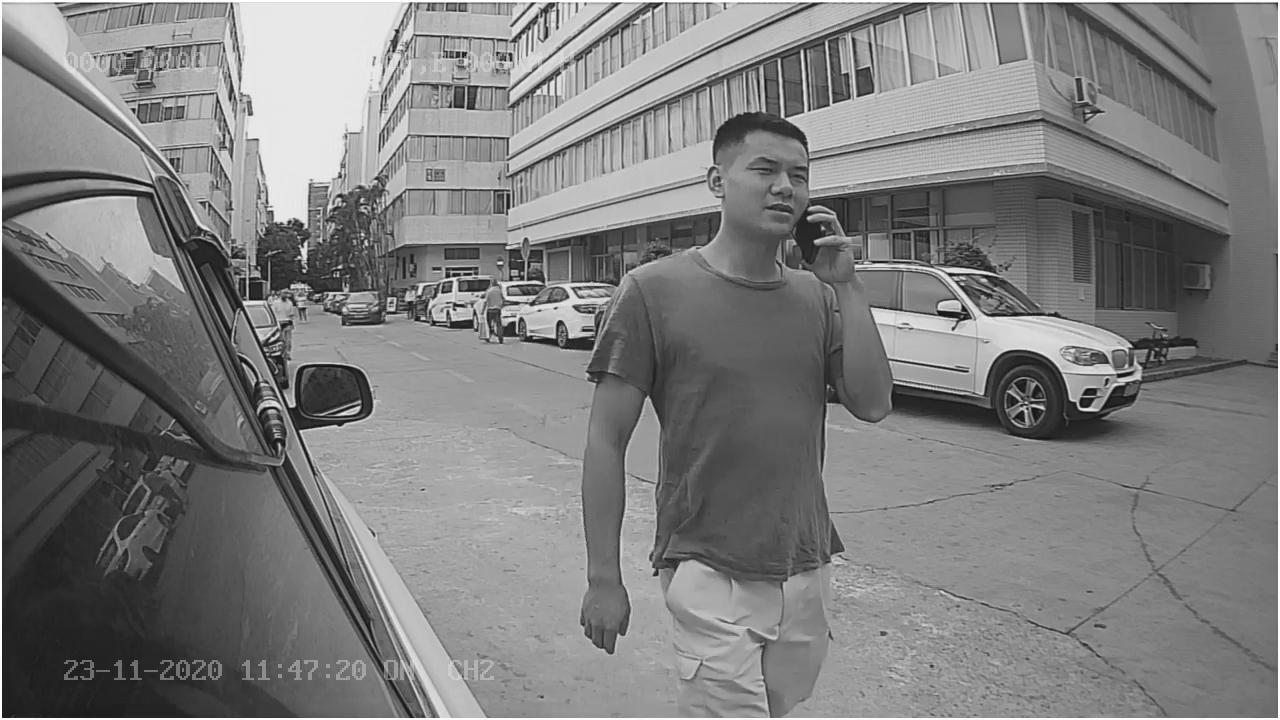person: (579, 111, 912, 658)
